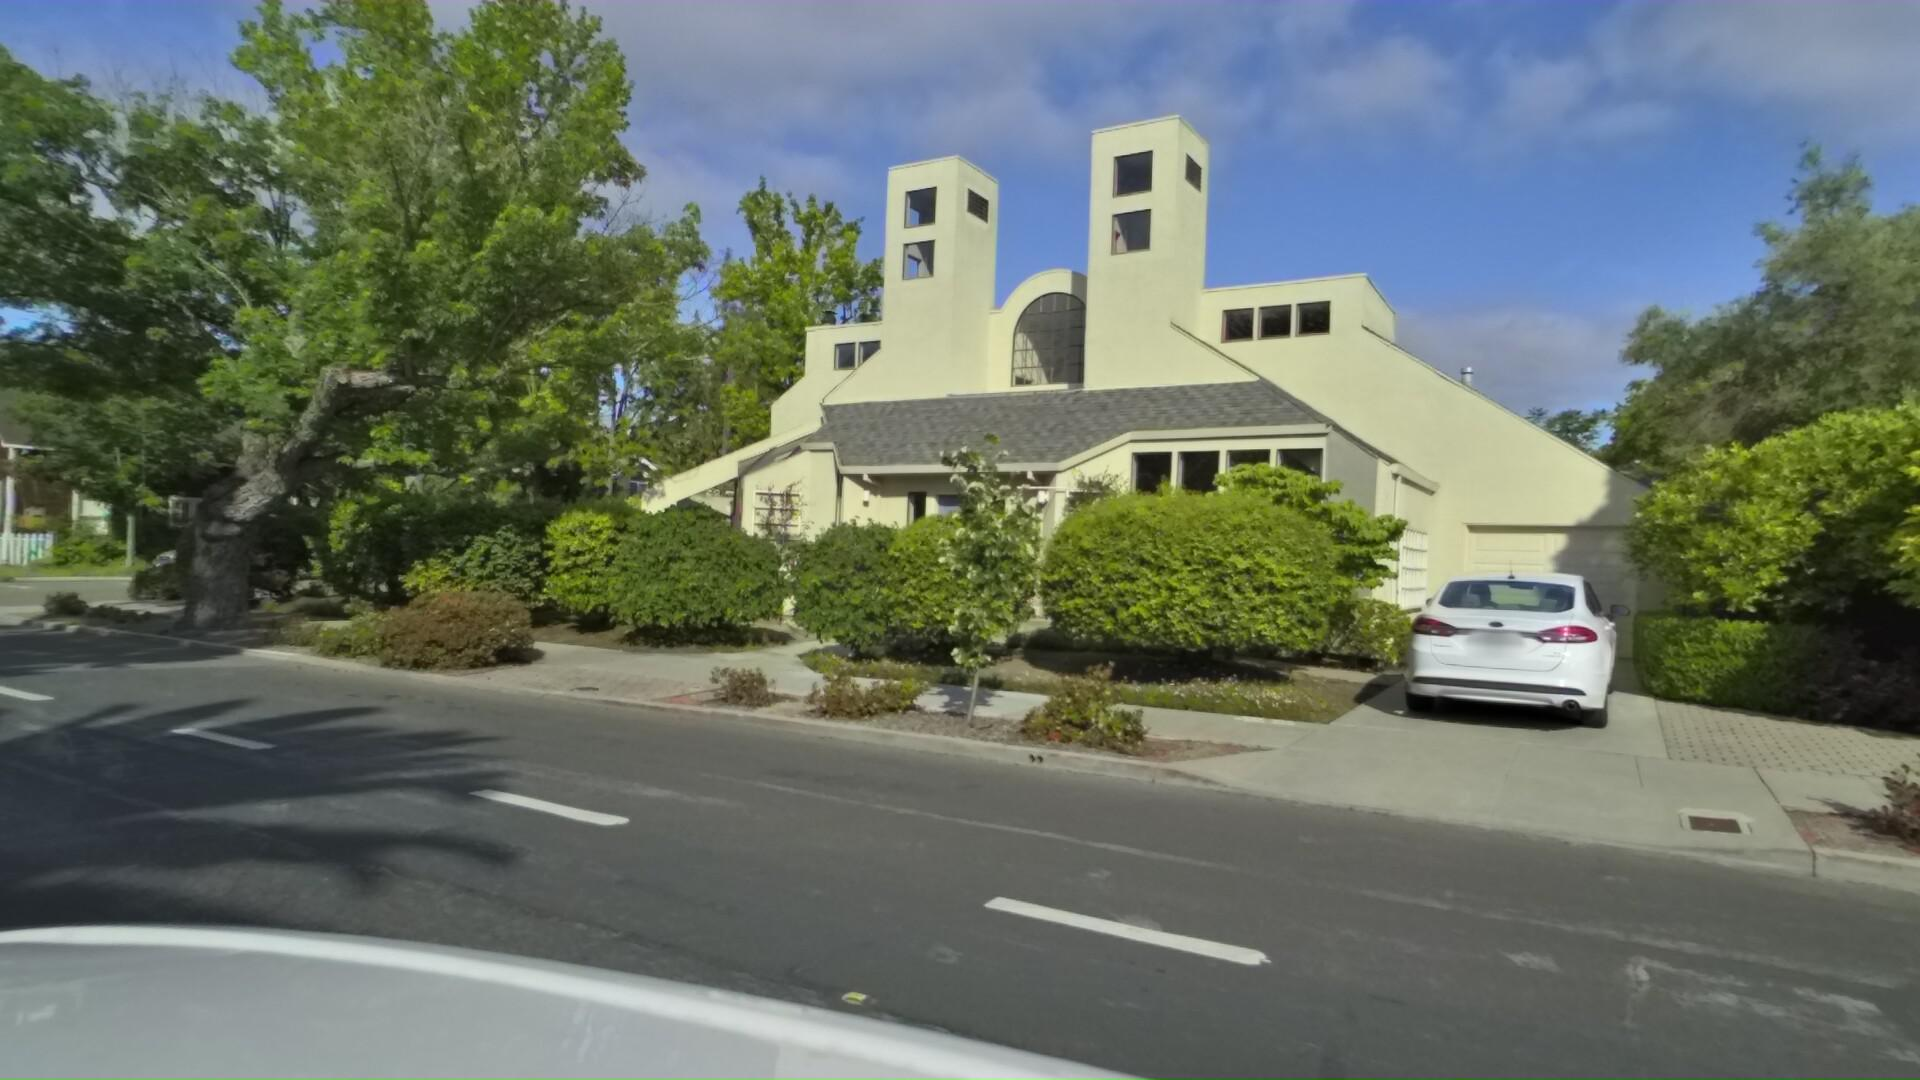car: (1338, 560, 1582, 742), (135, 526, 324, 584)
